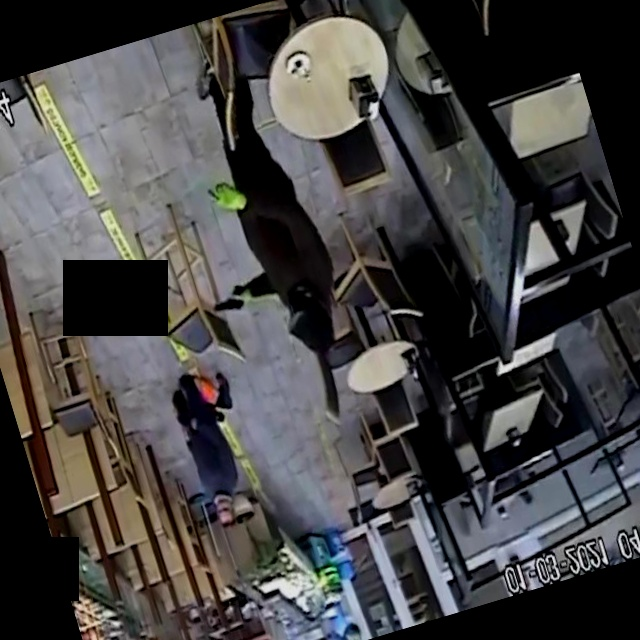gun: (198, 268, 260, 328)
